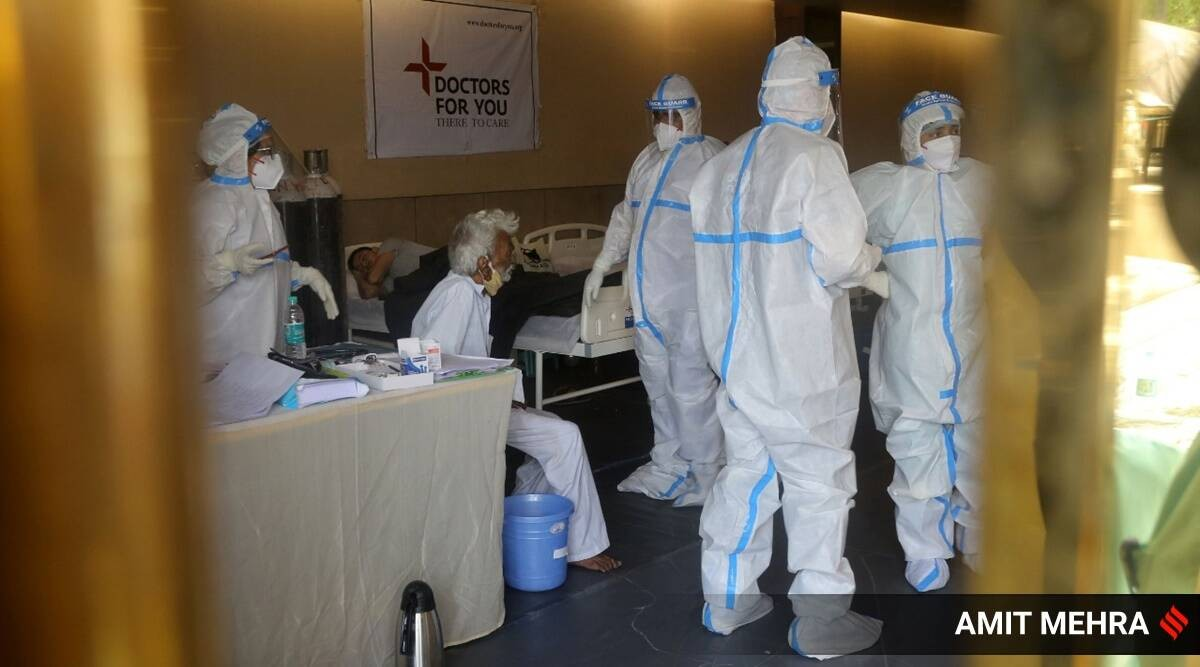Coverall: (691, 33, 881, 654), (851, 92, 1006, 592), (603, 74, 734, 507), (188, 104, 303, 371)
Face_Shield: (636, 96, 700, 158), (241, 115, 299, 181)
Gloves: (212, 242, 274, 278), (302, 263, 337, 323), (576, 263, 604, 307), (856, 266, 890, 298)
mask_weared_incorrectly: (475, 240, 517, 301)
with_mask: (916, 123, 959, 175), (245, 139, 285, 192), (647, 110, 680, 156)
